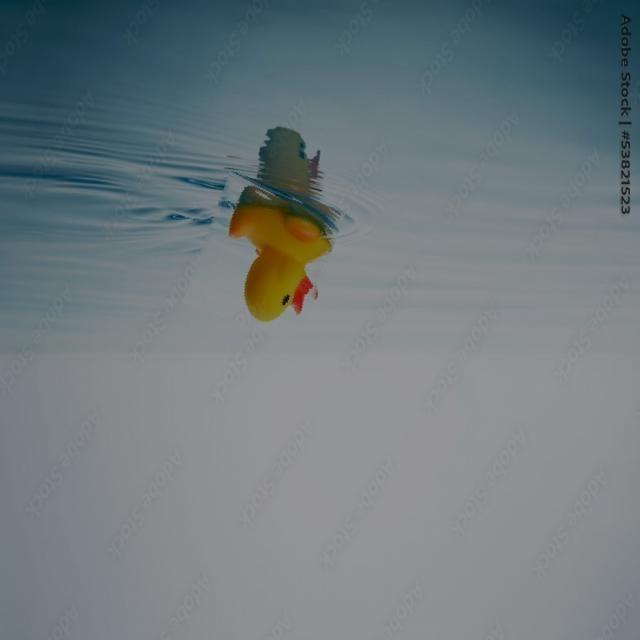rubber-duck: (228, 204, 329, 319)
